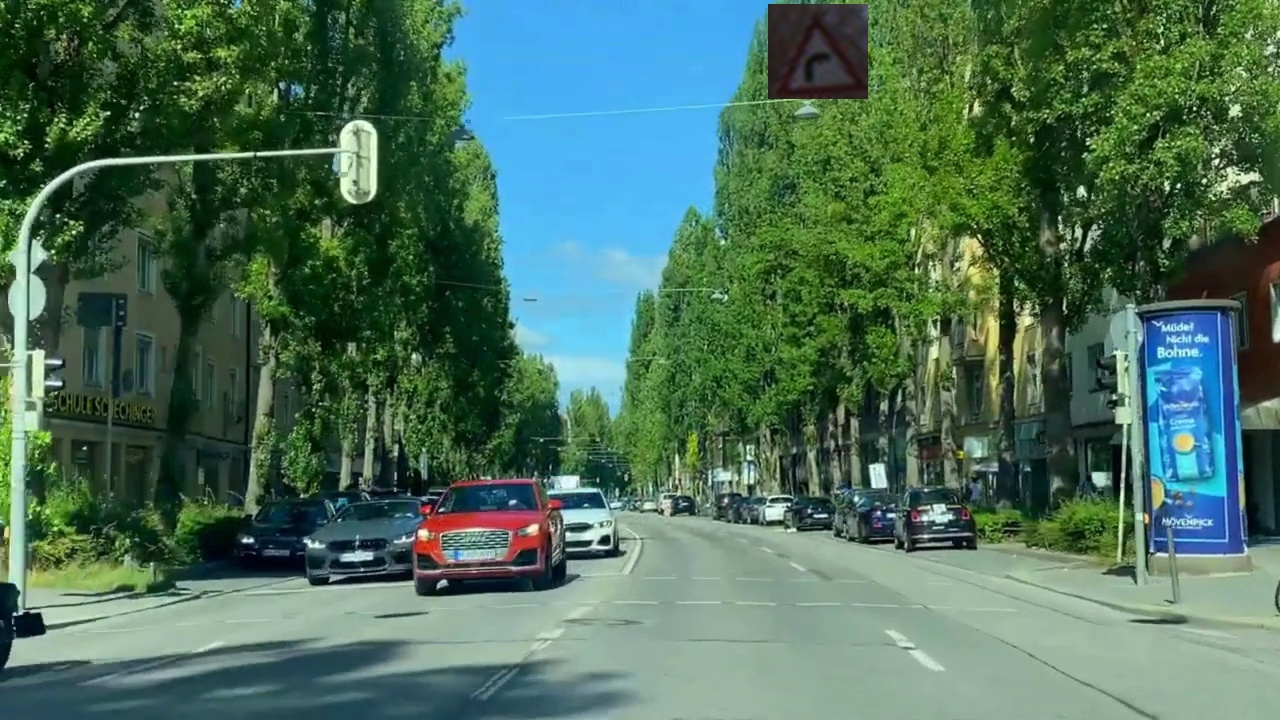Curve right: (768, 4, 868, 99)
